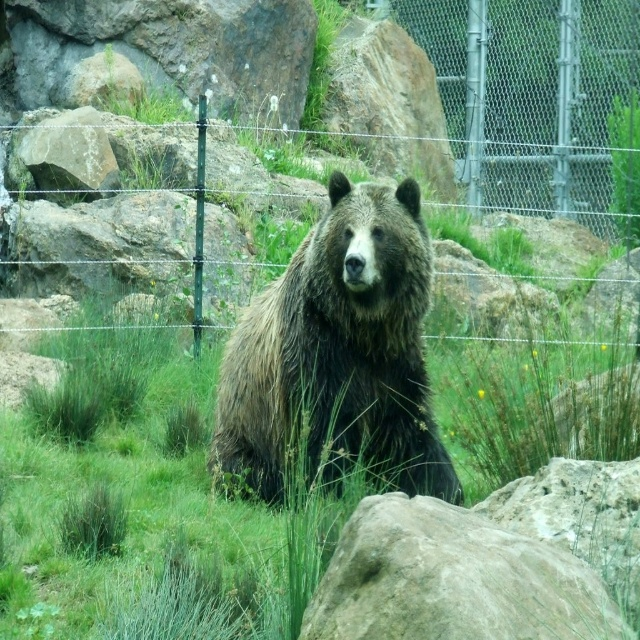Brown bear: (205, 170, 466, 514)
